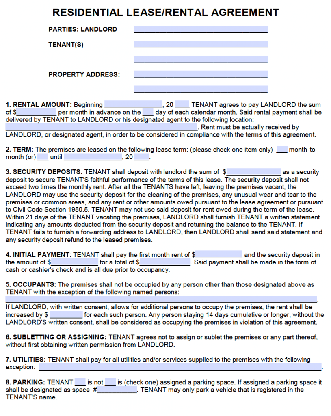textline: (4, 295, 319, 305), (39, 362, 323, 373), (130, 49, 271, 66), (130, 65, 271, 82), (4, 121, 201, 133), (130, 82, 272, 97), (132, 37, 272, 51), (132, 23, 269, 37), (62, 152, 125, 163), (104, 100, 162, 111), (226, 167, 282, 178), (16, 105, 60, 118), (193, 249, 245, 260), (50, 256, 101, 267), (139, 258, 191, 267), (97, 385, 139, 395), (48, 310, 85, 320), (132, 153, 152, 163), (172, 100, 191, 110), (275, 144, 291, 155), (35, 153, 50, 162), (104, 377, 117, 387), (74, 377, 86, 387), (142, 110, 156, 118)
